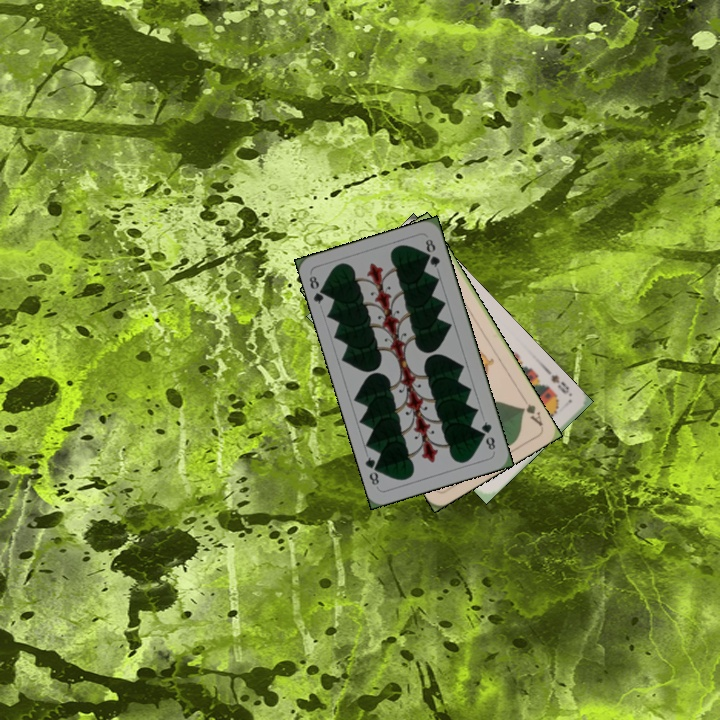G8: (305, 272, 330, 307), (477, 417, 498, 453)
GA: (517, 393, 545, 429)
S8: (547, 371, 572, 396)
